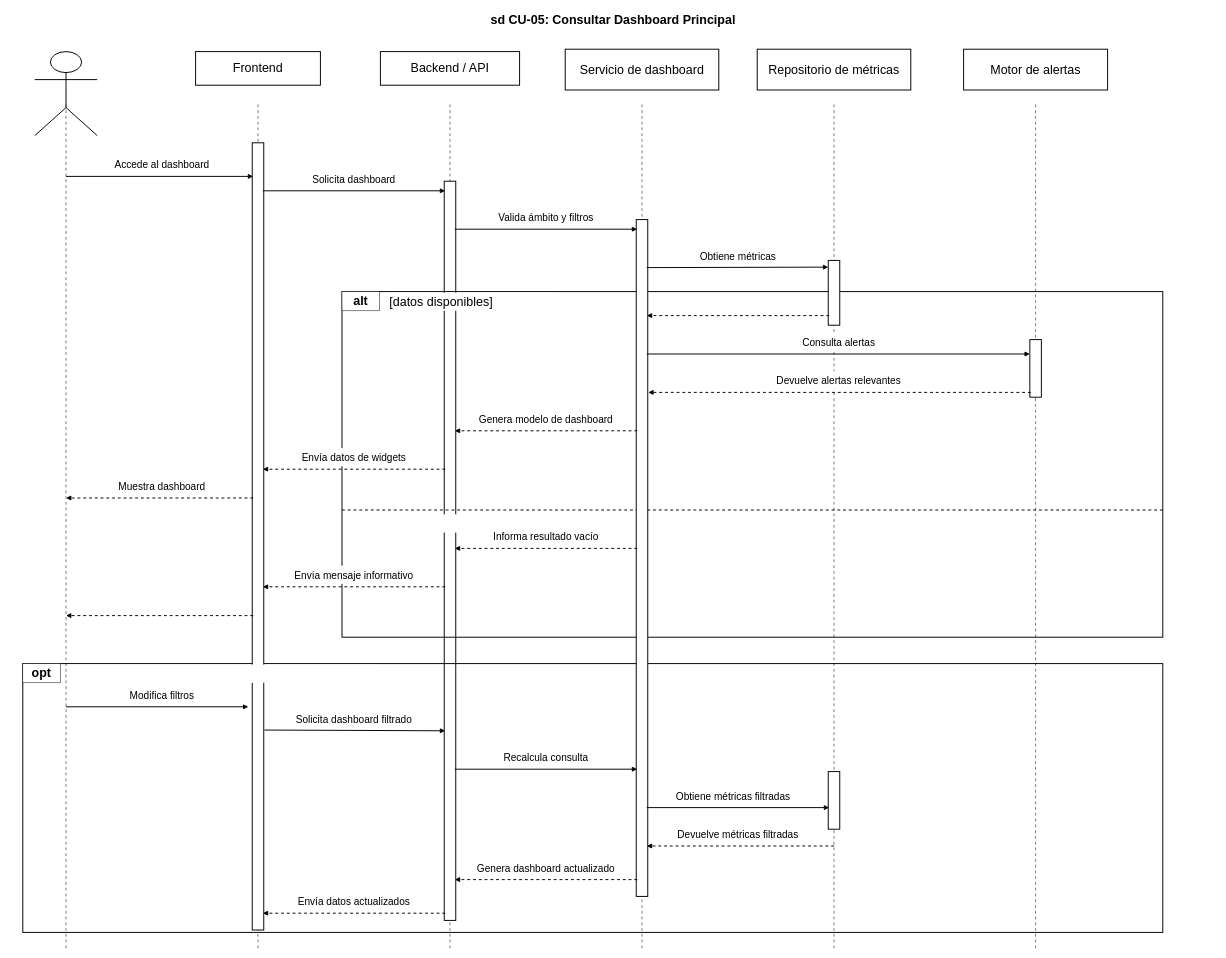
This 1226x958 diagram has some shape labels left out. Here are the shapes that lost their labels. From the top down, the box of each, then its label:
(34, 51, 97, 136): Usuario autenticado
(651, 294, 824, 312): Devuelve métricas disponibles
(387, 514, 608, 532): [sin datos o sin resultados]
(73, 594, 251, 612): Informa de la situación
(68, 664, 380, 683): [el usuario modifica filtros o rango temporal]
